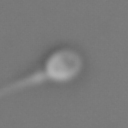normal: (1, 66, 43, 103)
